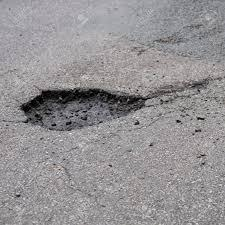crack: (14, 83, 156, 133)
